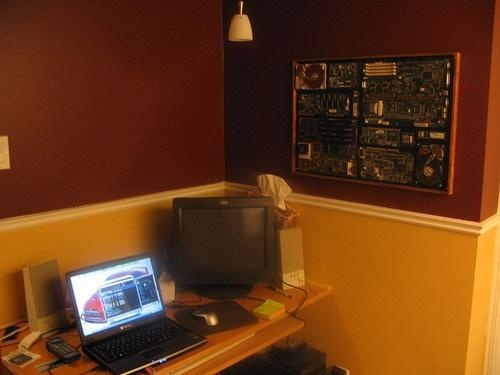tvmonitor: (172, 195, 278, 299)
